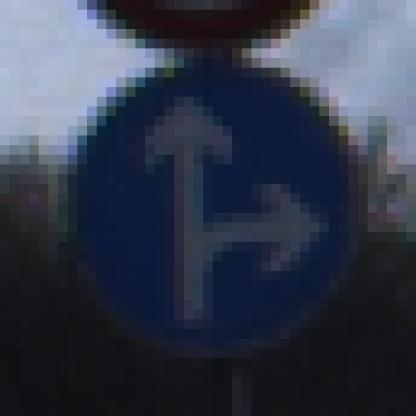Straight or Right: (49, 49, 369, 369)
